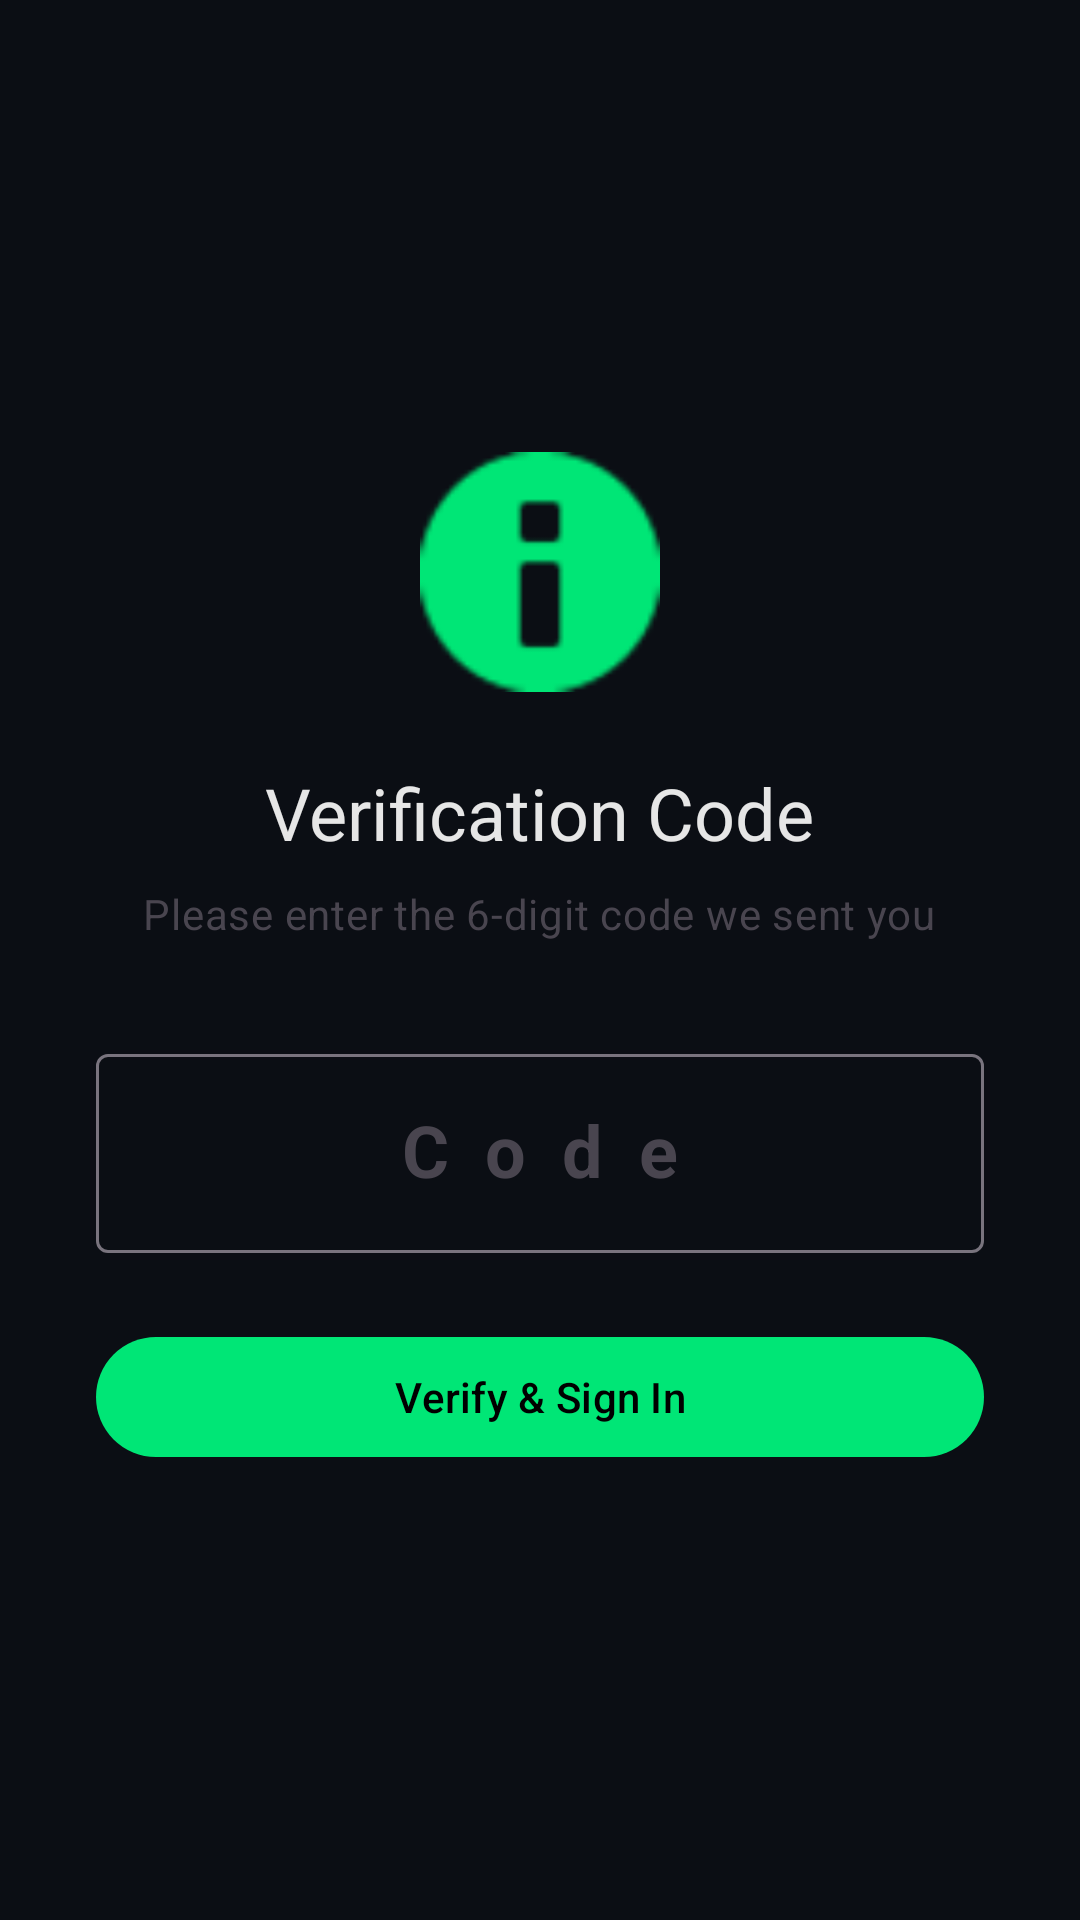

Icon click points for this 1080px x 1920px phone screenshot, format (x,y):
info: (540,572)
